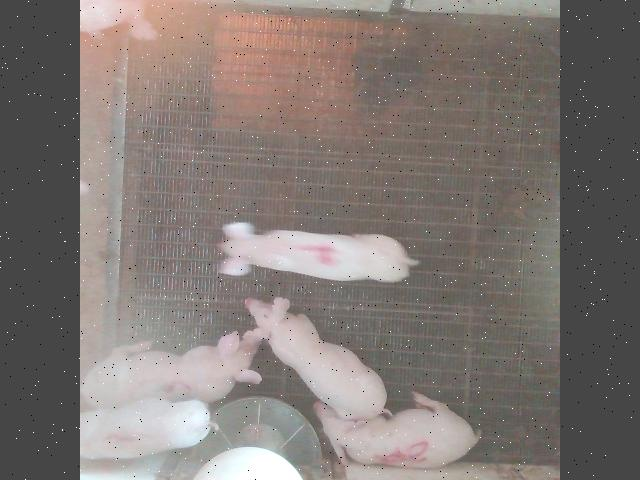pig-1: (81, 398, 215, 459)
pig-3: (82, 330, 261, 408)
pig-4: (219, 221, 418, 281)
pig-5: (314, 391, 480, 466)
